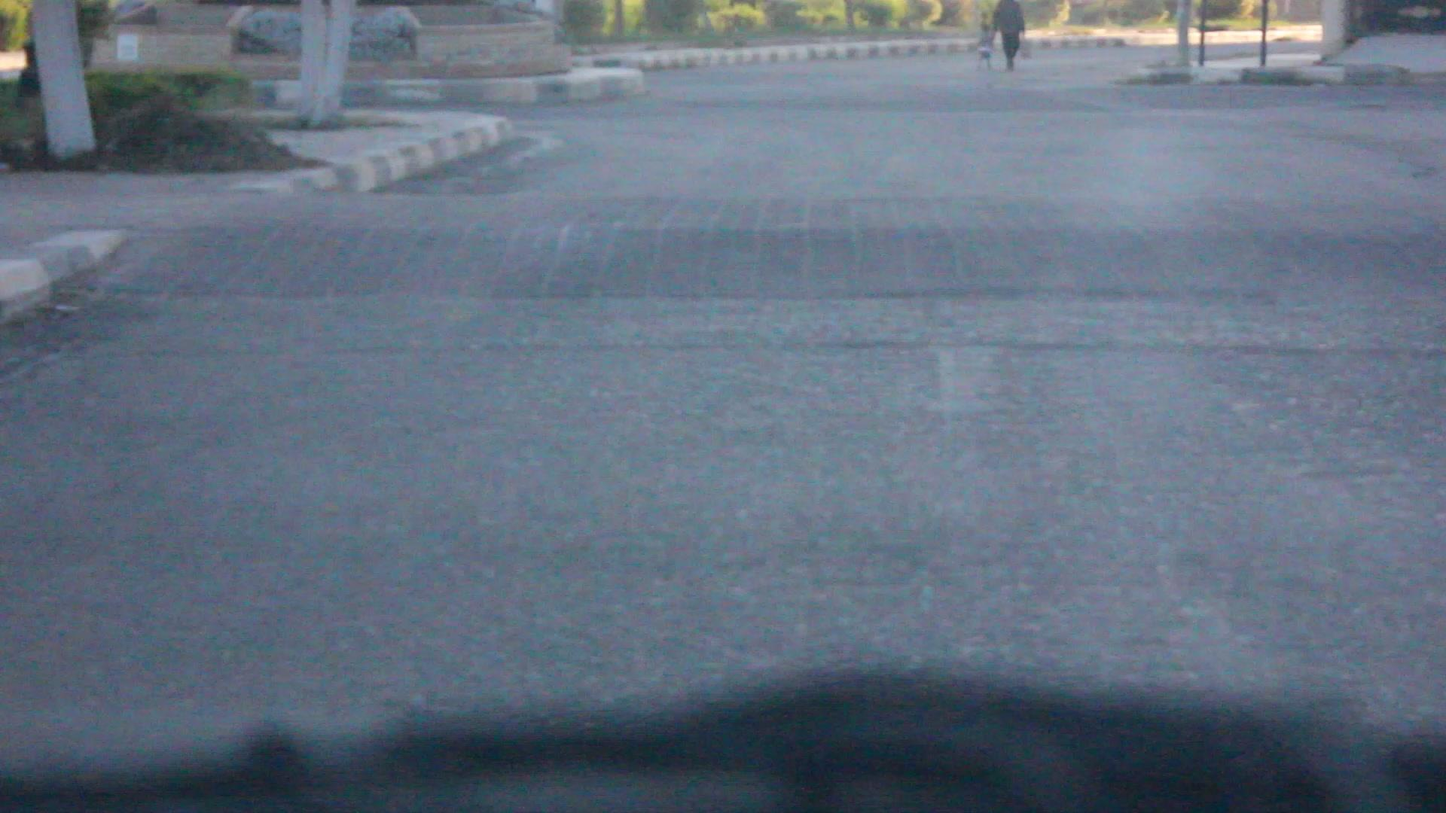Bump: (166, 171, 1446, 307)
